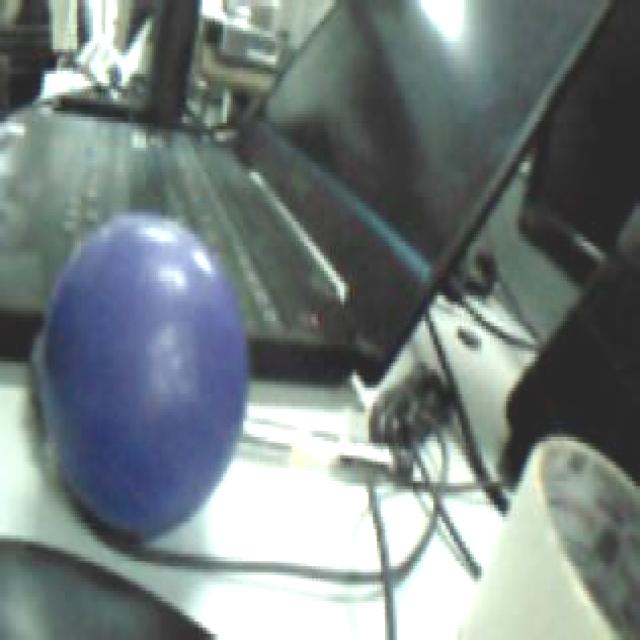BallPurple: (38, 210, 248, 544)
